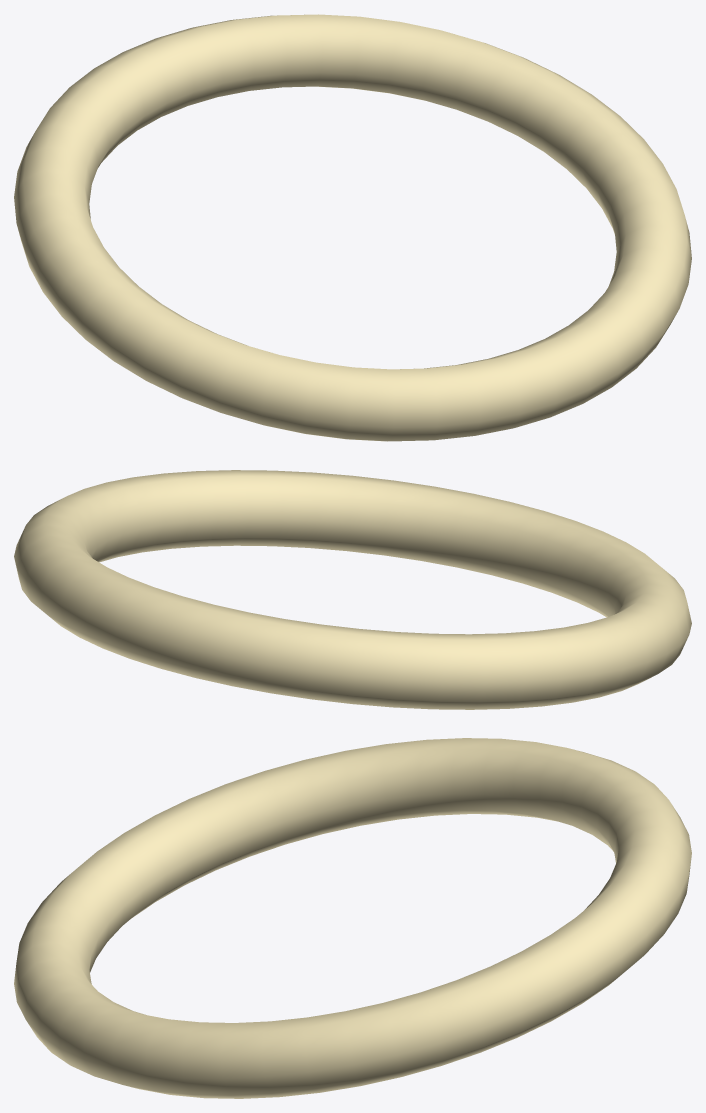
File: Halo.glb
3 views of the same model, one above another, from view 1: azimuth 30°, elevation 25°; view 2: azimuth 150°, elevation 25°; view 3: azimuth 270°, elevation 25° (orthographic).
Parts seen in each view (by area): view 1: Halo; view 2: Halo; view 3: Halo.
Part boxes in pixels (<box>): Halo: <box>14,14,691,441</box>; Halo: <box>14,470,691,709</box>; Halo: <box>14,738,691,1098</box>.
Bounding box in the file's own units: 0.18 × 0.0532 × 0.1761.
